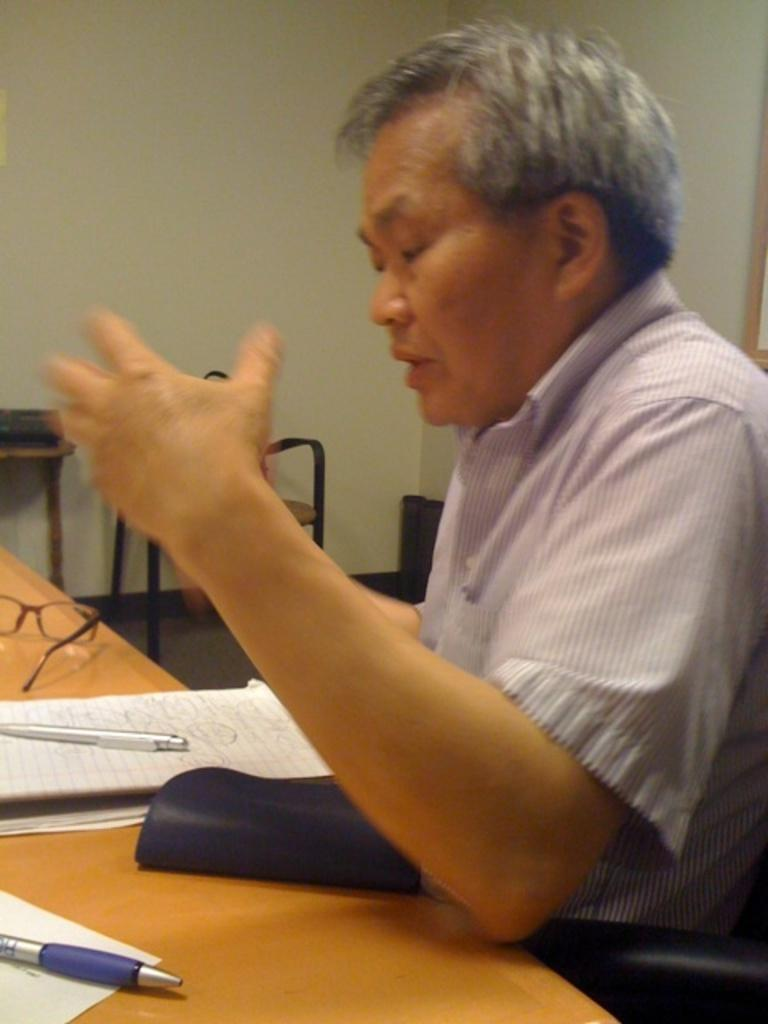pen: (0, 928, 179, 994), (0, 720, 190, 754)
